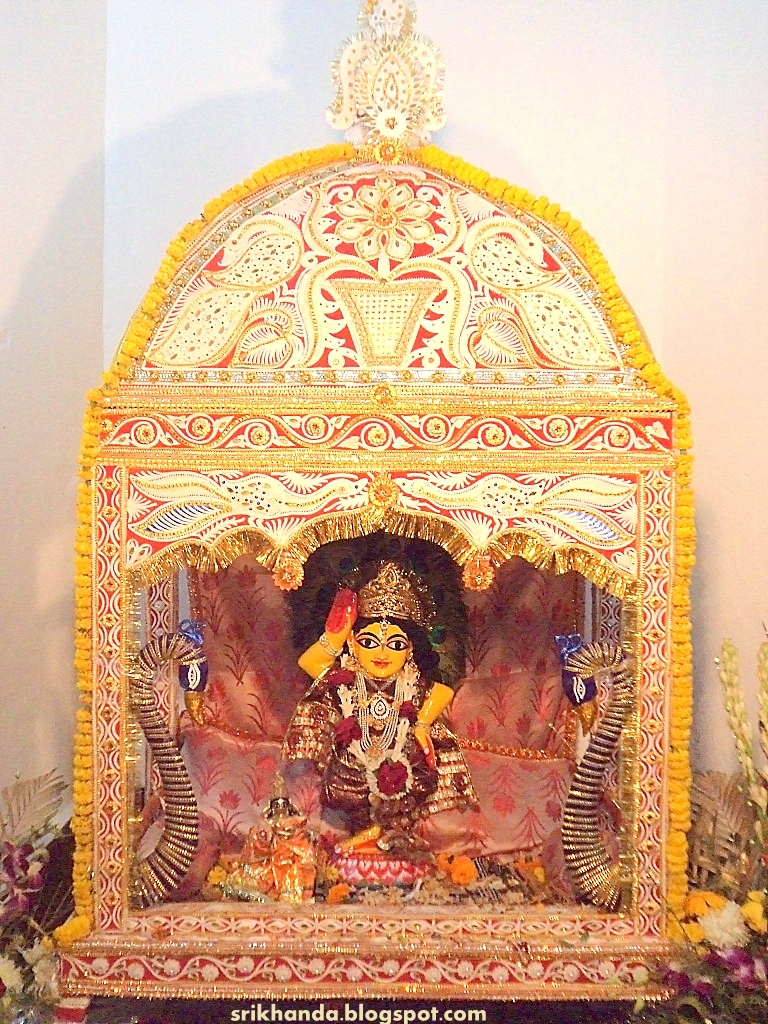Person: (239, 770, 318, 904)
